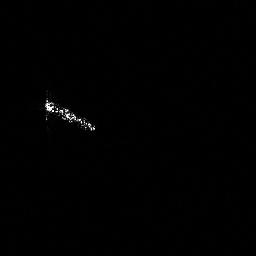ship: (39, 94, 97, 134)
